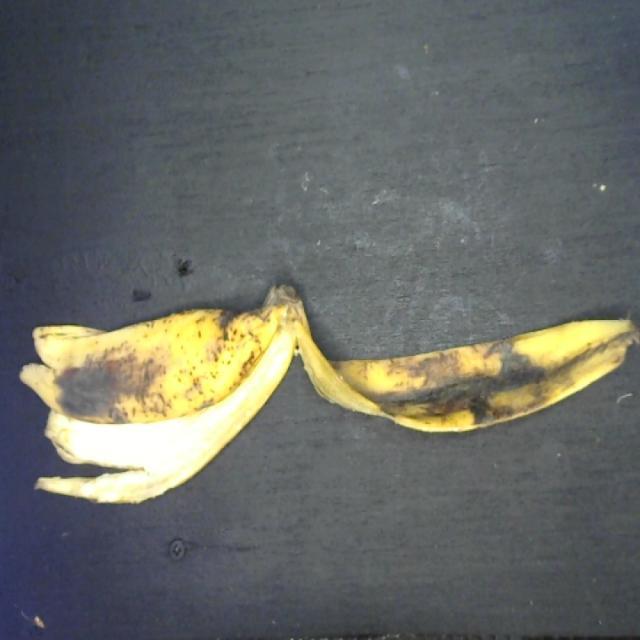biodegradable: (16, 277, 640, 513)
